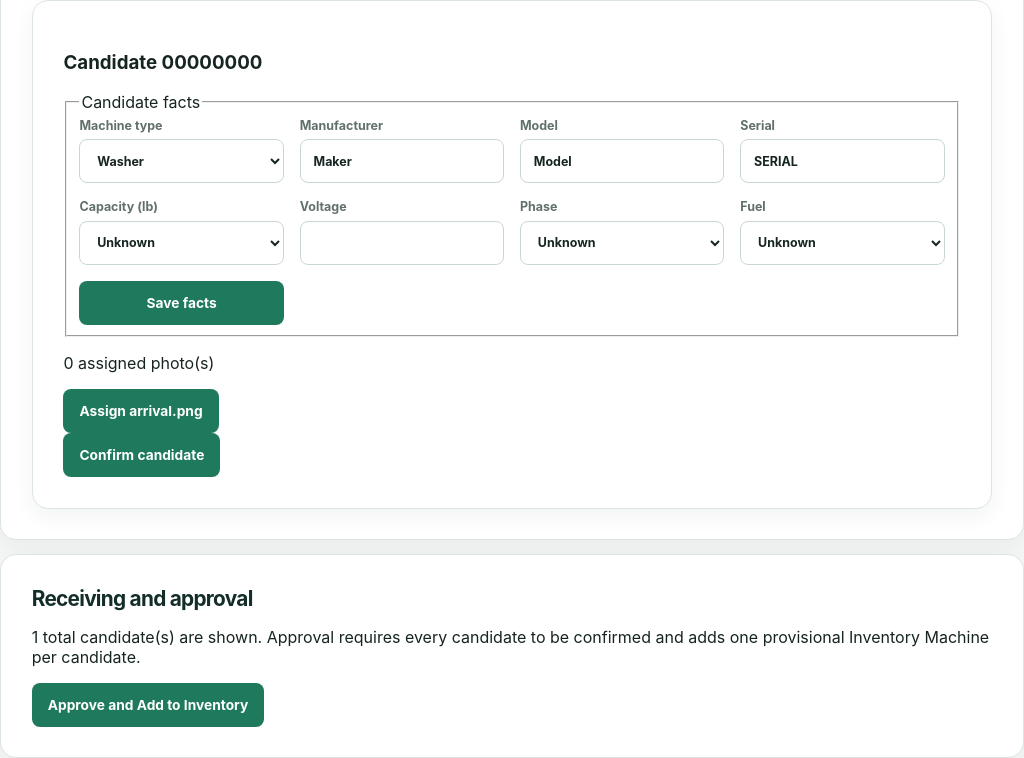
Test: Intake review UI › assigns and then unassigns a photo through the review controls
Later steps or results of the test are not shown.
(page scrolled)
Click the button "Assign arrival.png": (141, 411) top-left (63, 389), bottom-right (219, 433)
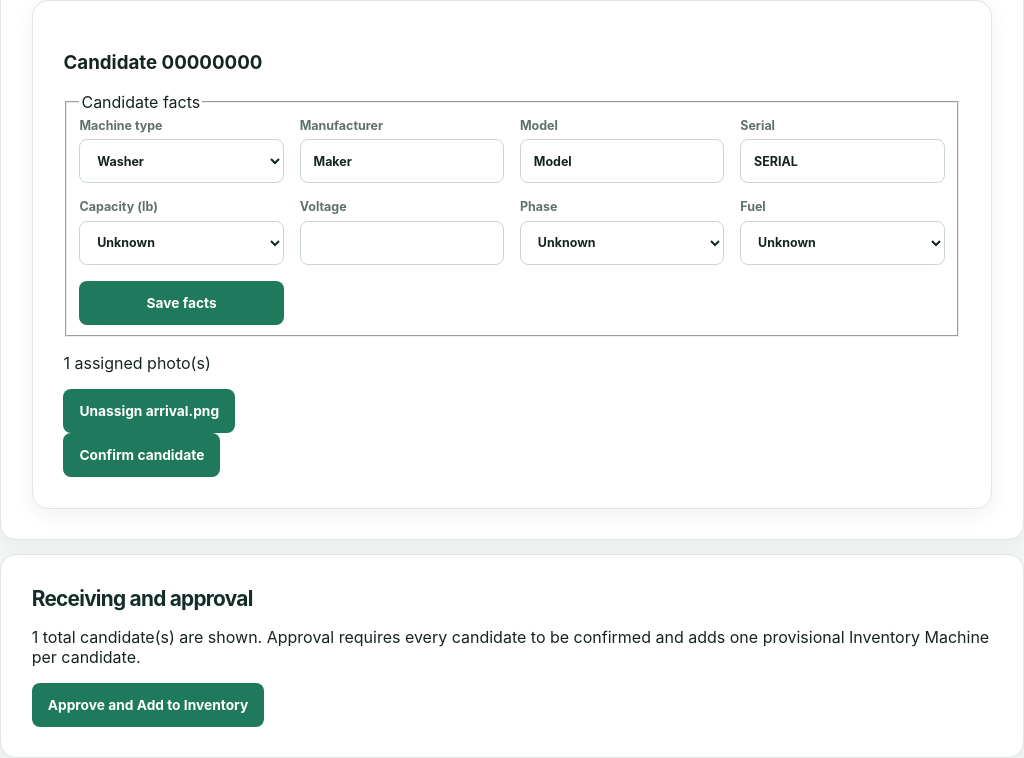
Now the button "Unassign arrival.png" is shown, box top-left (63, 389), bottom-right (235, 433)
